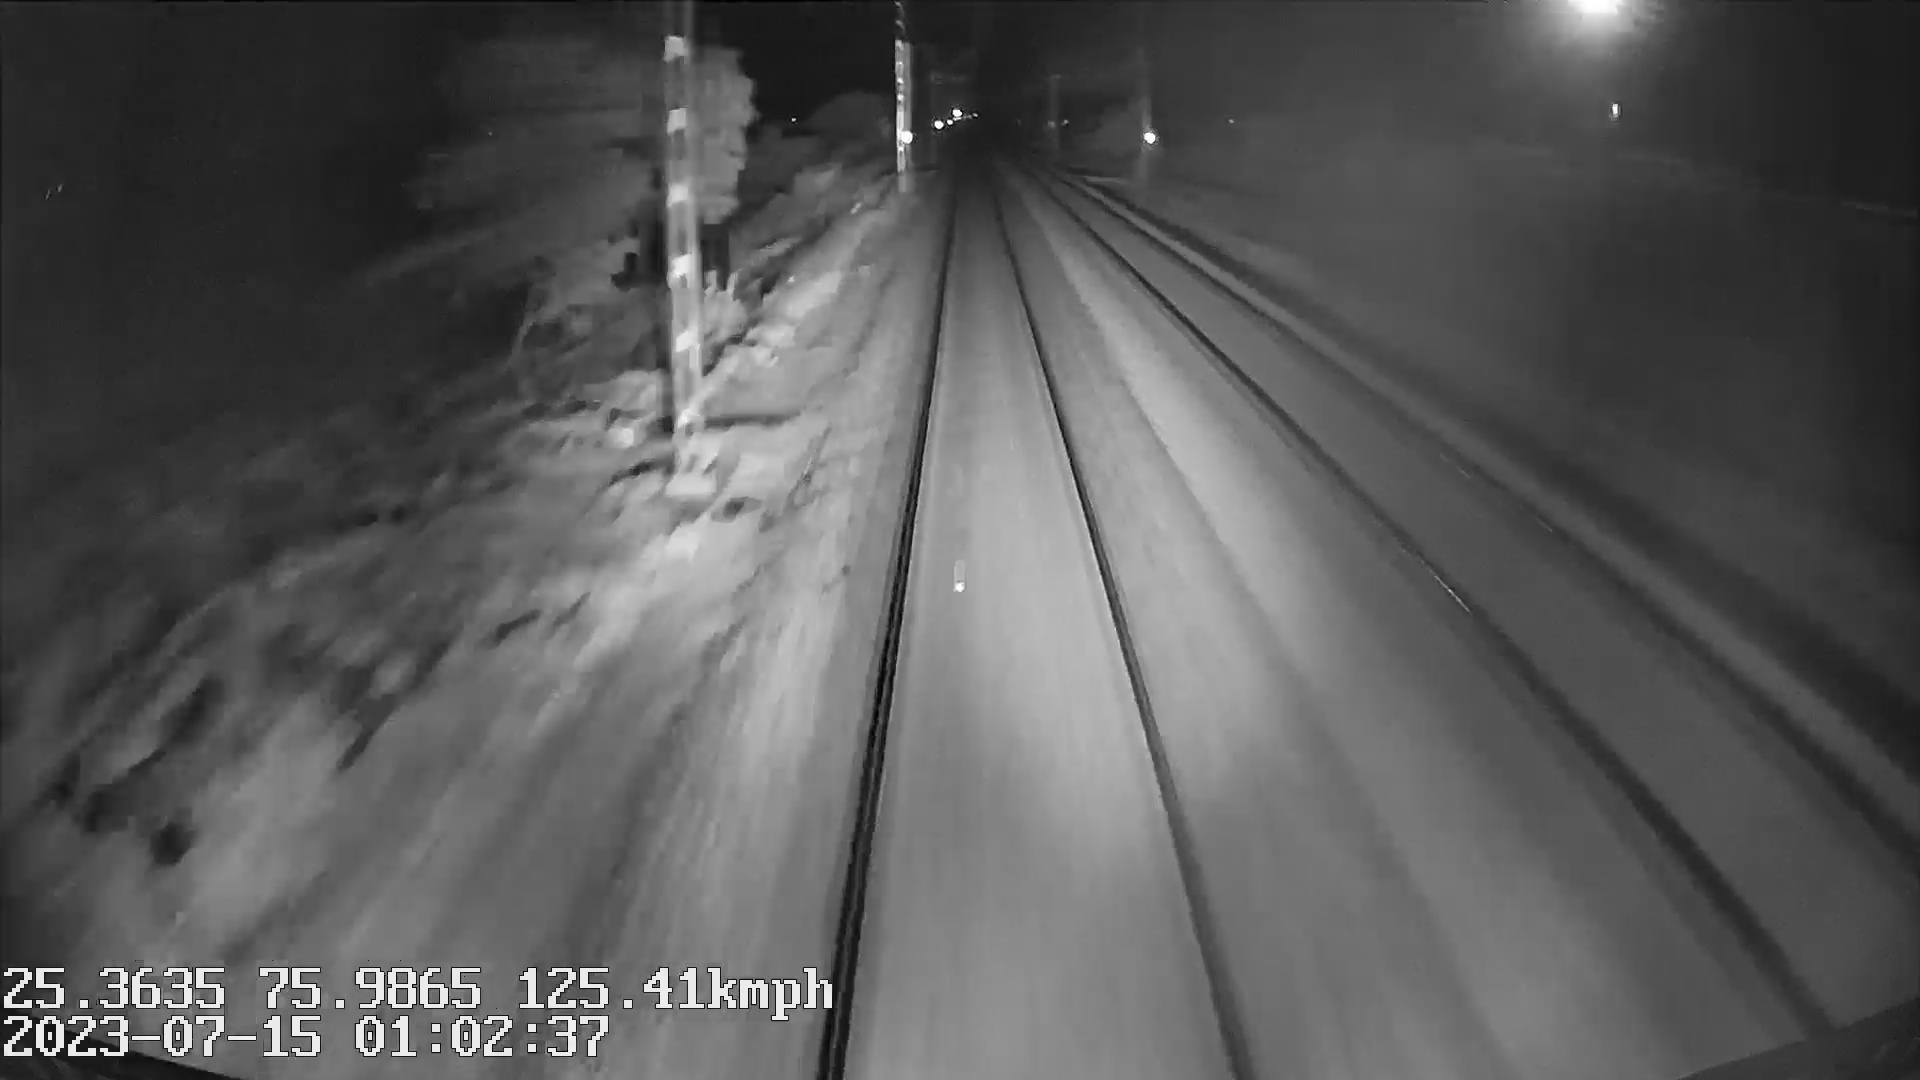track1: (837, 164, 1246, 1055)
track2: (1047, 189, 1905, 997)
